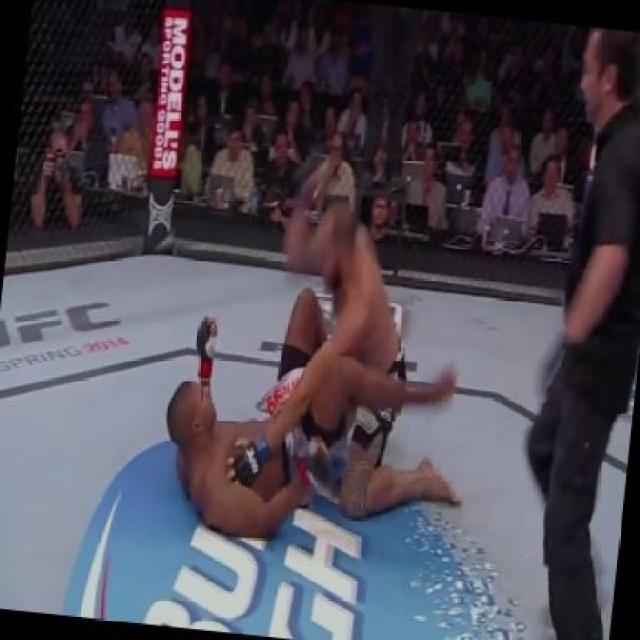fight: (165, 163, 465, 535)
non-fight: (498, 16, 638, 638)
